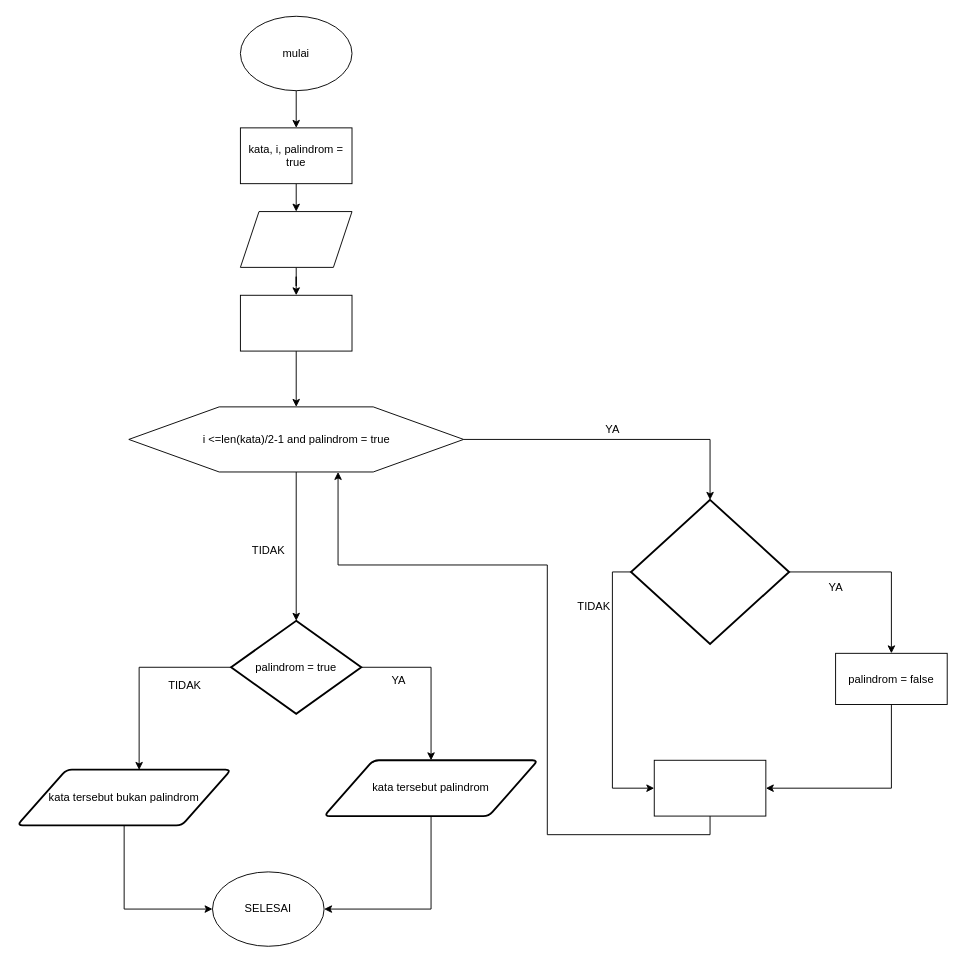
The diagram is 963 pixels wide and 963 high, and some of its shapes have lost their labels. The shapes that lost their labels are listed below. From the top down, each one's centre as x and y in pixels, then its label:
pixel 295 239: masukan kata
pixel 295 322: i = 0
pixel 710 571: char (kata,i) <> char(kata, len(kata)-i-1
pixel 709 787: i = i+1
